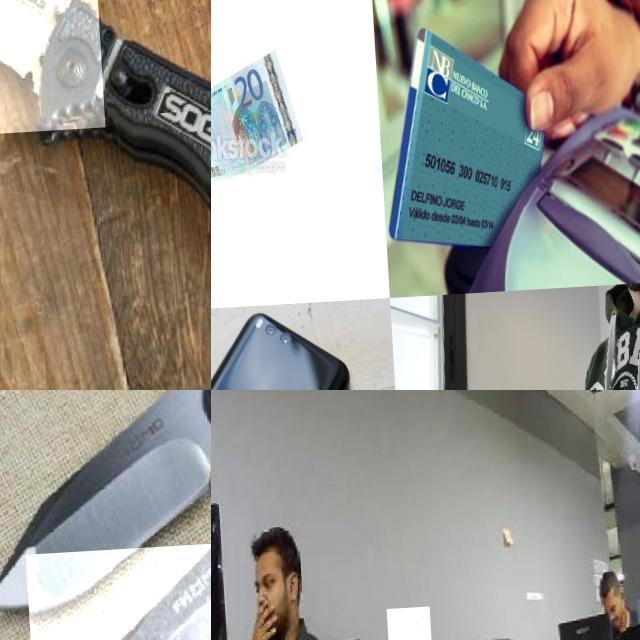-: (0, 390, 211, 627), (0, 0, 139, 143), (21, 542, 211, 640), (382, 611, 429, 640)
